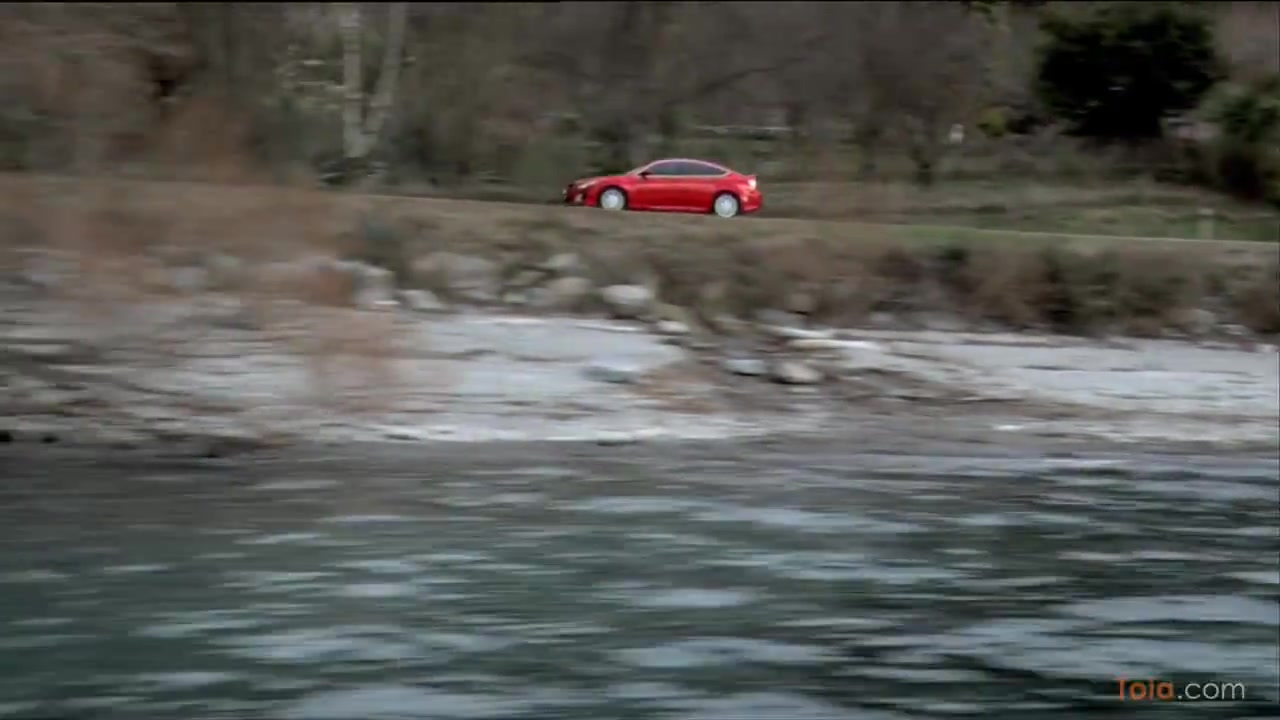car: (568, 155, 765, 222)
